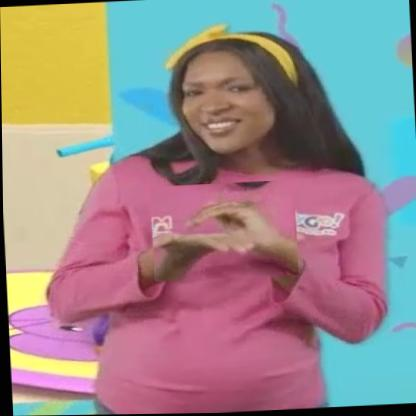ExcuseMe: (150, 181, 298, 282)
